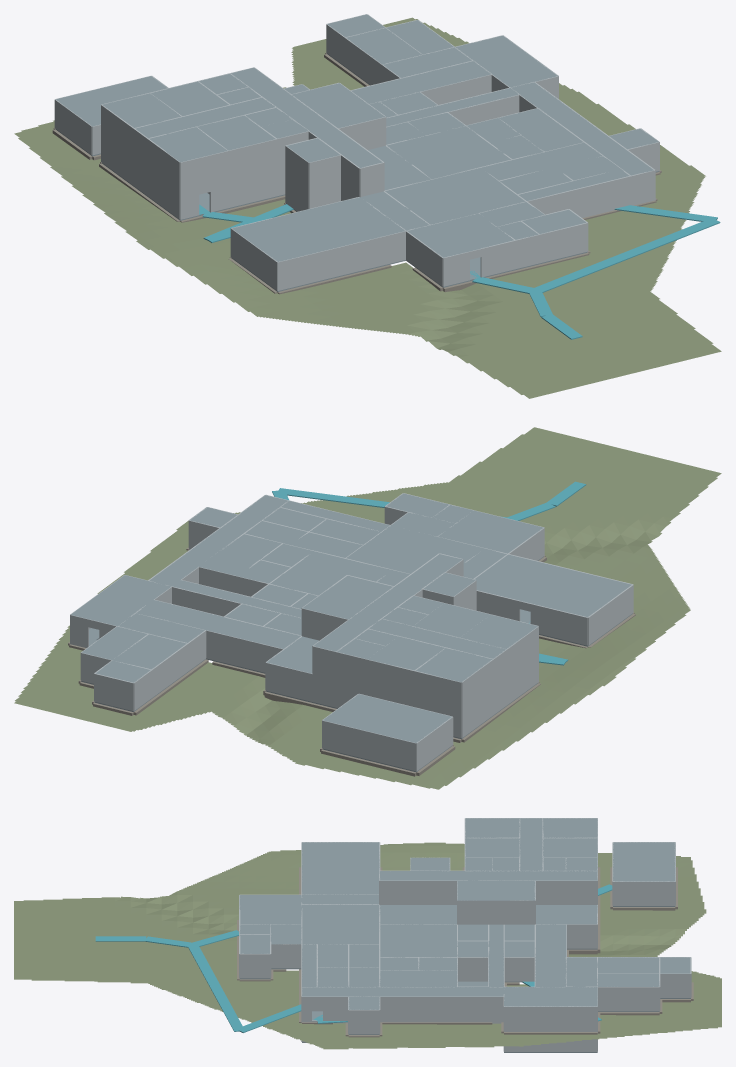
The model's file is supported-terrain.glb.
3 views of the same model, one above another, from view 1: azimuth 30°, elevation 25°; view 2: azimuth 150°, elevation 25°; view 3: azimuth 270°, elevation 25° (orthographic). The views are drawn at different scales.
Parts seen in each view (by area): view 1: Saved editor macroterrain ASYLUM, Ceiling cap day, Ceiling cap dining, Wall day S, Ceiling cap treatment, Ceiling cap upper-spine, Ceiling cap service, Ceiling cap service-stair, Ceiling cap admission, Wall meal-return S, Ceiling cap service-link, Ceiling cap upper-stair (+52 smaller); view 2: Saved editor macroterrain ASYLUM, Ceiling cap day, Ceiling cap dining, Ceiling cap chapel, Ceiling cap upper-spine, Wall chapel N, Ceiling cap service, Ceiling cap service-link, Ceiling cap treatment, Ceiling cap service-stair, Ceiling cap admission, Ceiling cap upper-stair (+50 smaller); view 3: Saved editor macroterrain ASYLUM, Ceiling cap day, Wall service E, Ceiling cap dining, Ceiling cap treatment, Ceiling cap chapel, Wall service-stair E, Ceiling cap upper-spine, Ceiling cap service, Ceiling cap service-link, Wall upper-stair E, Wall upper-spine E.001 (+46 smaller).
Part boxes in pixels (x1=…): Saved editor macroterrain ASYLUM: x1=14, y1=17, x2=721, y2=398; Ceiling cap day: x1=232, y1=197, x2=404, y2=261; Ceiling cap dining: x1=385, y1=168, x2=525, y2=224; Wall day S: x1=277, y1=231, x2=405, y2=290; Ceiling cap treatment: x1=387, y1=126, x2=511, y2=179; Ceiling cap upper-spine: x1=231, y1=67, x2=382, y2=167; Ceiling cap service: x1=511, y1=82, x2=653, y2=175; Ceiling cap service-stair: x1=455, y1=36, x2=557, y2=87; Ceiling cap admission: x1=407, y1=213, x2=513, y2=257; Wall meal-return S: x1=527, y1=176, x2=631, y2=216; Ceiling cap service-link: x1=351, y1=61, x2=490, y2=103; Ceiling cap upper-stair: x1=292, y1=83, x2=385, y2=128; Saved editor macroterrain ASYLUM: x1=14, y1=427, x2=721, y2=789; Ceiling cap day: x1=474, y1=554, x2=631, y2=617; Ceiling cap dining: x1=346, y1=525, x2=483, y2=573; Ceiling cap chapel: x1=323, y1=694, x2=451, y2=743; Ceiling cap upper-spine: x1=313, y1=554, x2=462, y2=651; Wall chapel N: x1=322, y1=720, x2=416, y2=771; Ceiling cap service: x1=149, y1=495, x2=287, y2=586; Ceiling cap service-link: x1=136, y1=600, x2=300, y2=648; Ceiling cap treatment: x1=270, y1=551, x2=391, y2=595; Ceiling cap service-stair: x1=71, y1=575, x2=171, y2=626; Ceiling cap admission: x1=438, y1=510, x2=543, y2=553; Ceiling cap upper-stair: x1=302, y1=575, x2=392, y2=619; Saved editor macroterrain ASYLUM: x1=14, y1=842, x2=721, y2=1049; Ceiling cap day: x1=302, y1=842, x2=379, y2=894; Wall service E: x1=323, y1=996, x2=503, y2=1020; Ceiling cap dining: x1=302, y1=904, x2=379, y2=944; Ceiling cap treatment: x1=380, y1=924, x2=457, y2=957; Ceiling cap chapel: x1=613, y1=842, x2=675, y2=881; Wall service-stair E: x1=504, y1=1006, x2=597, y2=1030; Ceiling cap upper-spine: x1=379, y1=871, x2=597, y2=880; Ceiling cap service: x1=302, y1=987, x2=503, y2=996; Ceiling cap service-link: x1=535, y1=924, x2=566, y2=986; Wall upper-stair E: x1=457, y1=900, x2=535, y2=924; Wall upper-spine E.001: x1=379, y1=880, x2=467, y2=904.
Size of the model in its own units: 62 by 9.96 by 91.
